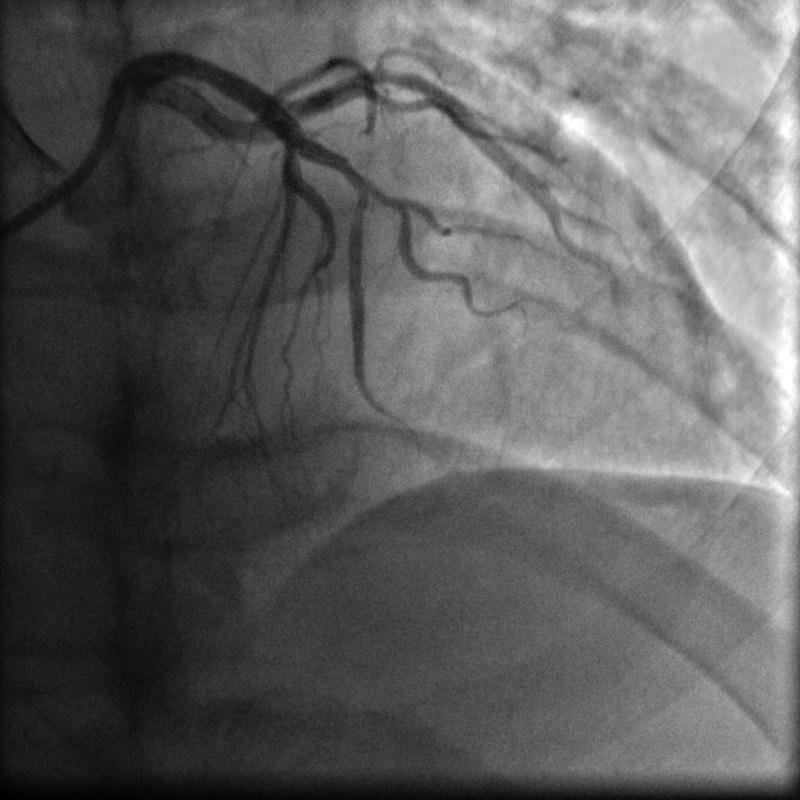Stenosis: (349, 178, 370, 228)
